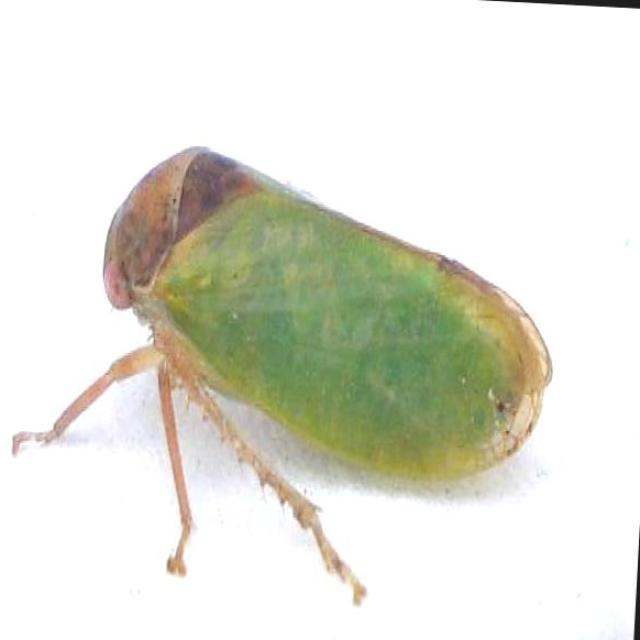green leaf hopper: (13, 147, 551, 604)
